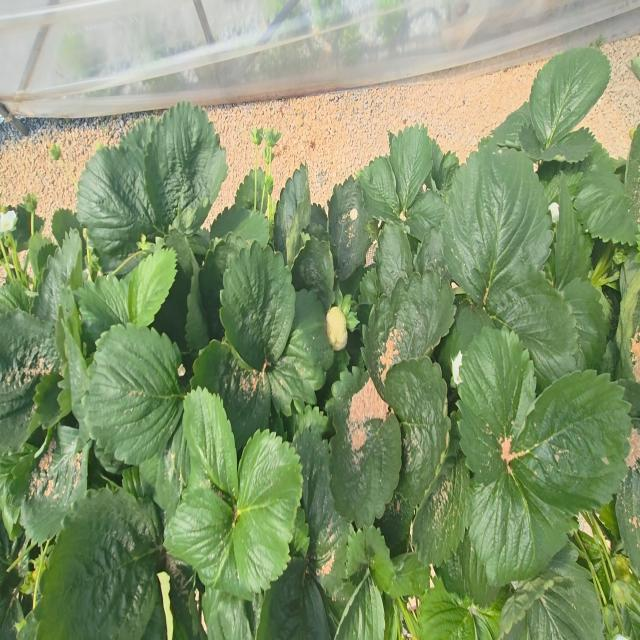Flowers: (0, 210, 16, 233)
Leaves: (441, 144, 552, 324), (39, 489, 159, 639), (512, 370, 631, 514), (84, 324, 184, 465), (458, 327, 534, 481), (327, 369, 401, 526), (233, 430, 303, 593), (364, 270, 455, 391), (143, 102, 227, 230), (488, 271, 578, 385), (469, 471, 556, 585), (220, 241, 295, 370), (293, 424, 349, 596), (191, 340, 271, 457), (386, 357, 450, 503), (77, 147, 149, 268), (266, 290, 334, 415), (0, 309, 59, 453), (530, 48, 611, 150), (21, 426, 89, 543), (526, 544, 604, 639), (164, 484, 232, 586), (411, 454, 470, 565), (573, 148, 637, 244), (183, 388, 238, 497), (258, 558, 330, 639), (417, 580, 501, 639), (35, 231, 81, 329), (329, 175, 371, 280), (563, 278, 609, 371), (124, 248, 177, 326), (554, 178, 591, 289), (388, 126, 431, 212), (75, 274, 130, 339), (335, 569, 385, 639), (292, 234, 335, 311), (346, 525, 395, 591), (457, 531, 499, 606), (273, 165, 309, 251), (199, 244, 229, 339), (375, 223, 412, 296), (358, 157, 400, 221), (211, 204, 269, 244), (529, 129, 596, 162), (206, 593, 253, 639), (407, 190, 444, 240), (491, 103, 530, 149), (390, 552, 429, 596), (33, 372, 62, 427), (417, 226, 444, 274), (519, 116, 544, 160), (235, 169, 254, 209), (257, 168, 264, 207)
Strawberries: (327, 306, 347, 350)
